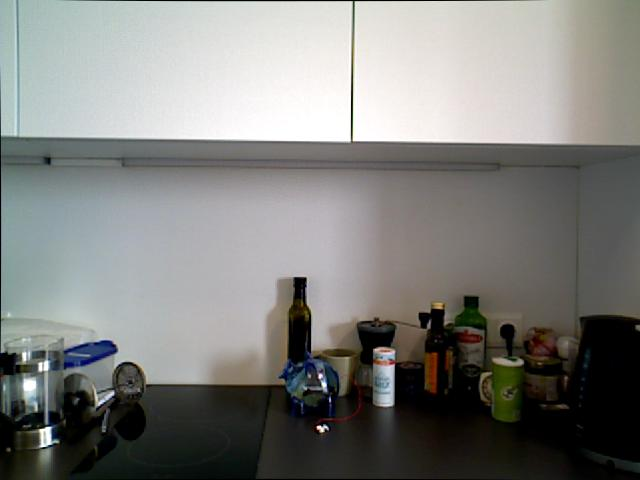bench: (453, 295, 486, 399), (287, 275, 313, 393), (423, 301, 452, 401)
giraffe: (478, 367, 511, 406)
handbag: (0, 332, 69, 455), (313, 345, 359, 398)
